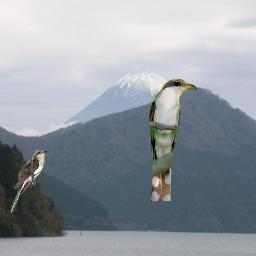Cuckoo: (148, 78, 197, 201), (11, 150, 48, 213)
